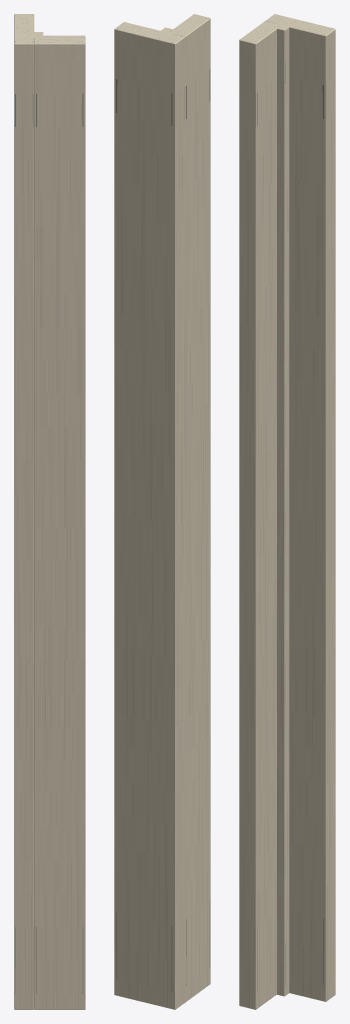
File: house_02_corner_trim.glb
The picture shows the model from 3 angles, left to right: view 1: azimuth 90°, elevation 25°; view 2: azimuth 150°, elevation 25°; view 3: azimuth 330°, elevation 25°; orthographic projection.
Parts seen in each view (by area): view 1: house_02_corner_trim; view 2: house_02_corner_trim; view 3: house_02_corner_trim.
Part boxes in pixels (left/top/right/bottom): house_02_corner_trim: left=14, top=14, right=85, bottom=1009; house_02_corner_trim: left=114, top=14, right=210, bottom=1009; house_02_corner_trim: left=239, top=14, right=335, bottom=1009.
Bounding box in the file's own units: 0.18 × 2.7 × 0.18.
2 materials, 2 textured.
